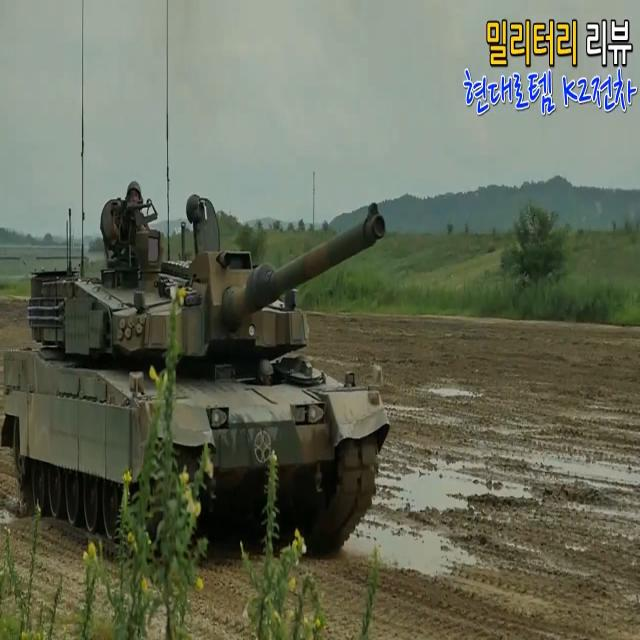korea tank: (1, 180, 390, 564)
